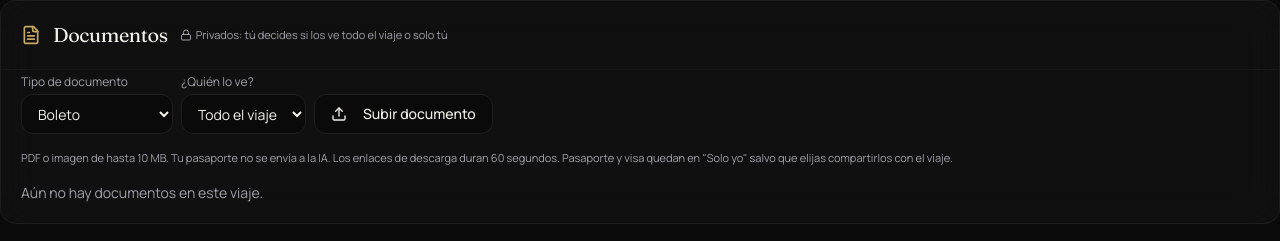
Test: T-P2-4: quién ve cada documento › al elegir Pasaporte el selector pasa a 'Solo yo' y la fila se guarda así
This screenshot has width=1280, height=241.
Expected: the text "Aún no hay documentos en este viaje." is shown, [21,182,263,202]
Select "Pasaporte" in the dropdown labelled "Tipo de documento": (97, 114) [21,94,173,134]
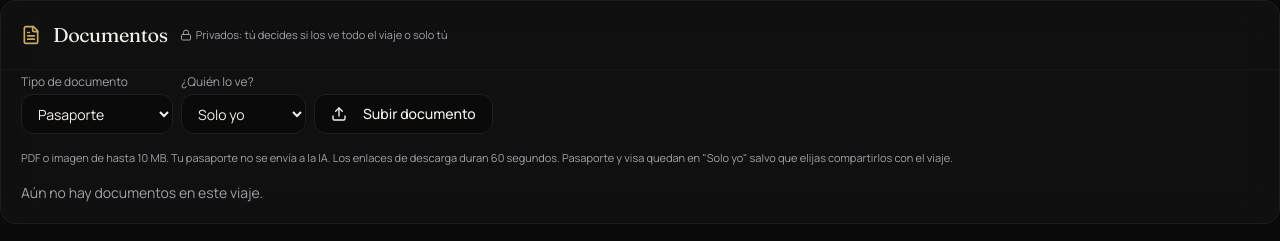
Now the dropdown named "Quién ve el documento" shows "Solo yo", box [181,94,306,134]
